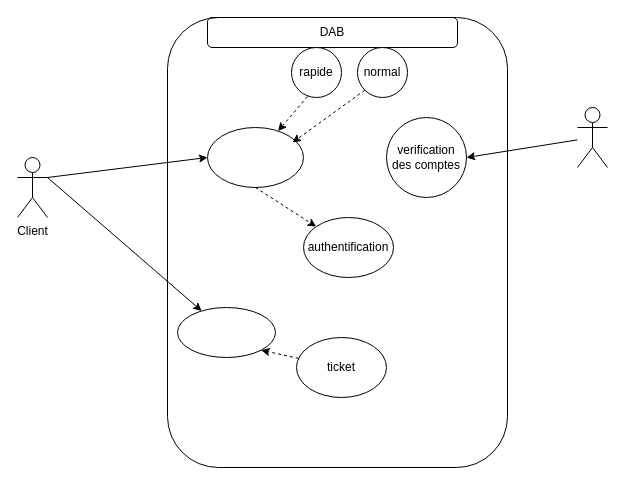
Some shapes in this 625 by 485 pixel diagram are drawn without their labels. The centre of each missing label's shape, as x and y in pixels:
"Bank" belongs at (592,137).
"consultation" belongs at (255,157).
"retrait" belongs at (226,332).
